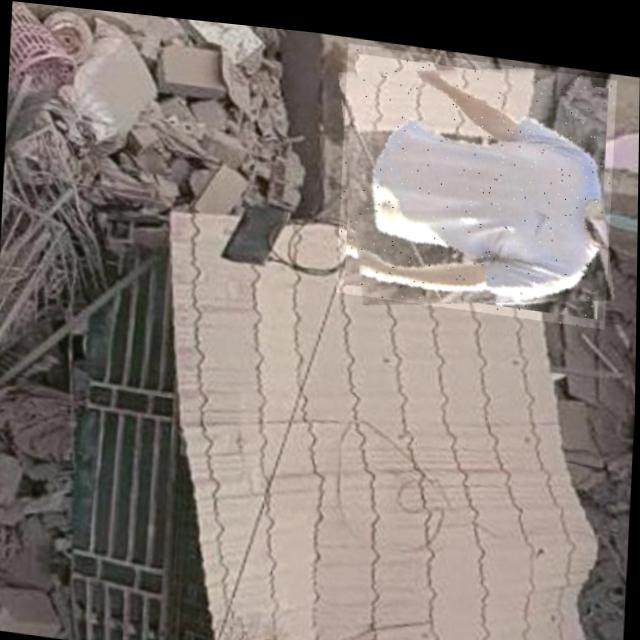Person in Rubble: (335, 35, 616, 316)
